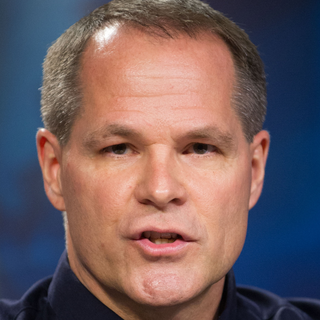eye: (96, 138, 143, 163), (177, 138, 225, 162)
